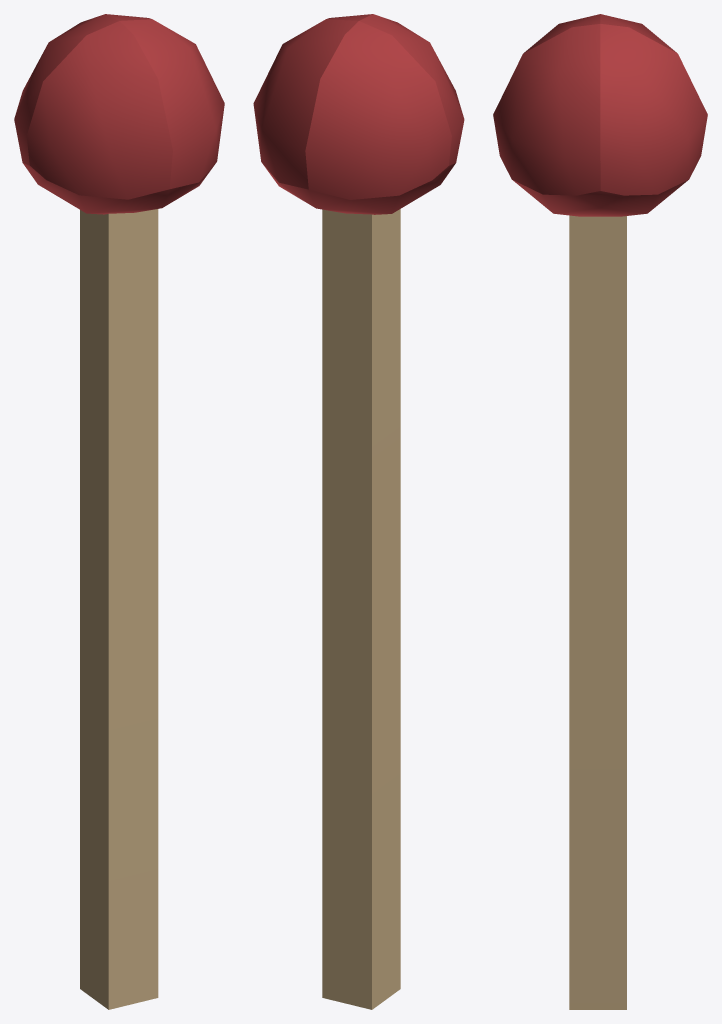
File: MageStaffForTexturing.fbx
The picture shows the model from 3 angles, left to right: view 1: azimuth 30°, elevation 25°; view 2: azimuth 150°, elevation 25°; view 3: azimuth 270°, elevation 25°; orthographic projection.
Parts seen in each view (by area): view 1: spear1; view 2: spear1; view 3: spear1.
Part boxes in pixels (x1,y1,x2,y2): spear1: [14, 14, 224, 1009]; spear1: [253, 14, 464, 1009]; spear1: [493, 14, 707, 1009].
Size of the model in its own units: 37.73 by 189 by 37.69.
